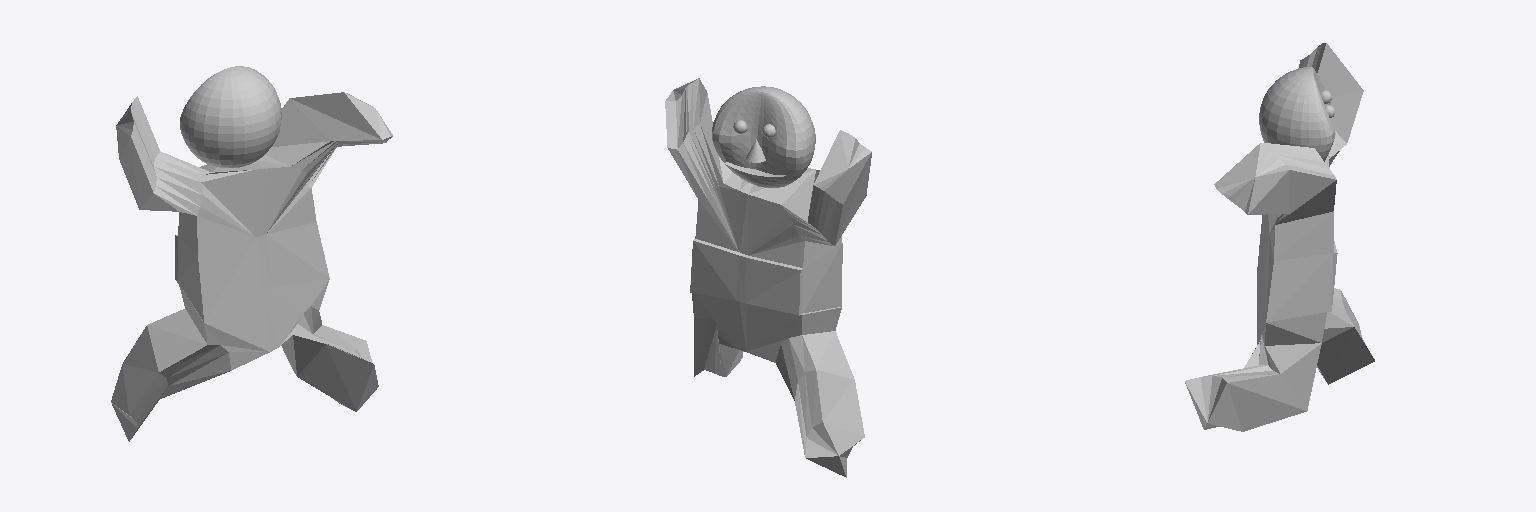
Rendered from manjump_000025.obj.
The picture shows the model from 3 angles: view 1: azimuth 30°, elevation 25°; view 2: azimuth 150°, elevation 25°; view 3: azimuth 270°, elevation 25°; orthographic projection.
Parts seen in each view (by area): view 1: Cube; view 2: Cube; view 3: Cube.
Boxes of the visible parts, <box> form: Cube: <box>111,66,392,441</box>; Cube: <box>665,78,871,477</box>; Cube: <box>1185,43,1374,431</box>.
Size of the model in its own units: 82.4 by 123 by 59.5.